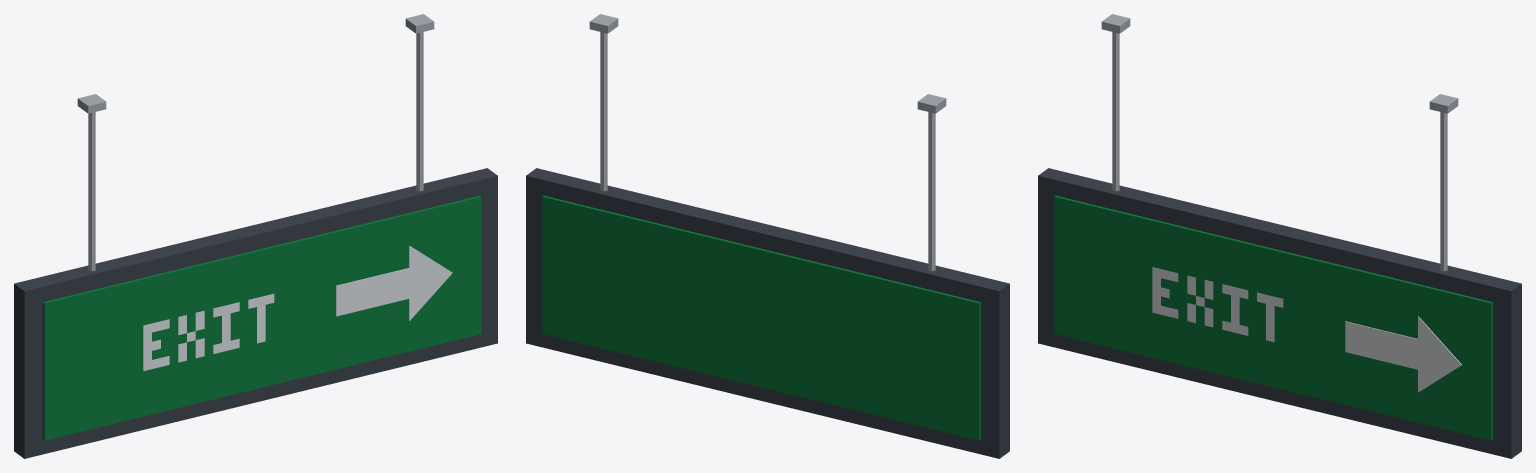
The model's file is sign_hanging_ceiling_sign.glb.
3 views of the same model, side by side, from view 1: azimuth 30°, elevation 25°; view 2: azimuth 150°, elevation 25°; view 3: azimuth 330°, elevation 25° (orthographic).
Visible parts, largest first — view 1: sign_hanging_ceiling_sign; view 2: sign_hanging_ceiling_sign; view 3: sign_hanging_ceiling_sign.
Boxes of the visible parts, box(x1,y1,x2,y2) form: sign_hanging_ceiling_sign: box(14, 14, 497, 458); sign_hanging_ceiling_sign: box(526, 14, 1009, 458); sign_hanging_ceiling_sign: box(1038, 14, 1521, 458).
Bounding box in the file's own units: 1.3 × 0.885 × 0.07.
